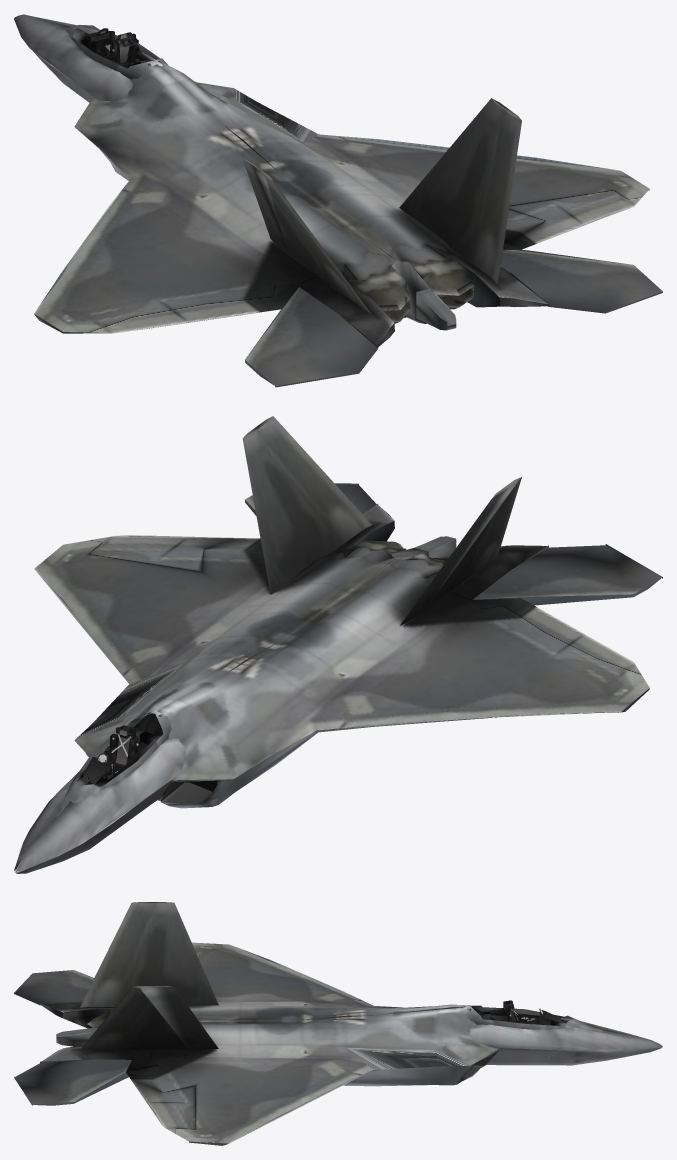
The picture shows the model from 3 angles, top to bottom: view 1: azimuth 30°, elevation 25°; view 2: azimuth 150°, elevation 25°; view 3: azimuth 270°, elevation 25°; orthographic projection. The views are drawn at different scales.
Visible parts, largest first — view 1: body|f22_top_U, body|f22_top_D, body|f22_bottom_R., body|Grey, body|f22_bottom_L, body|Darker_paint.001; view 2: body|f22_top_U, body|f22_top_D, body|f22_bottom_L, body|Grey, body|f22_bottom_L_darker, body|Darker_paint.001, body|f22_bottom_R.; view 3: body|f22_top_D, body|f22_top_U, body|f22_bottom_R., body|f22_bottom_R_darker, body|f22_bottom_L, body|Grey, body|Darker_paint.001.
Part boxes in pixels (<box>): body|f22_top_U: <box>14,14,662,385</box>; body|f22_top_D: <box>17,14,649,330</box>; body|f22_bottom_R.: <box>195,81,648,307</box>; body|Grey: <box>49,126,662,387</box>; body|f22_bottom_L: <box>34,130,625,384</box>; body|Darker_paint.001: <box>82,28,150,66</box>; body|f22_top_U: <box>16,416,662,872</box>; body|f22_top_D: <box>14,416,456,870</box>; body|f22_bottom_L: <box>157,500,662,808</box>; body|Grey: <box>86,483,662,804</box>; body|f22_bottom_L_darker: <box>16,779,172,873</box>; body|Darker_paint.001: <box>82,725,141,784</box>; body|f22_bottom_R.: <box>39,521,394,756</box>; body|f22_top_D: <box>42,902,661,1143</box>; body|f22_top_U: <box>14,902,661,1104</box>; body|f22_bottom_R.: <box>75,1046,499,1143</box>; body|f22_bottom_R_darker: <box>486,1047,662,1065</box>; body|f22_bottom_L: <box>34,947,402,1105</box>; body|Grey: <box>14,975,499,1145</box>; body|Darker_paint.001: <box>480,1000,562,1025</box>.
Bounding box in the file's own units: 13.73 × 4.04 × 18.91.
16 materials, 8 textured.
